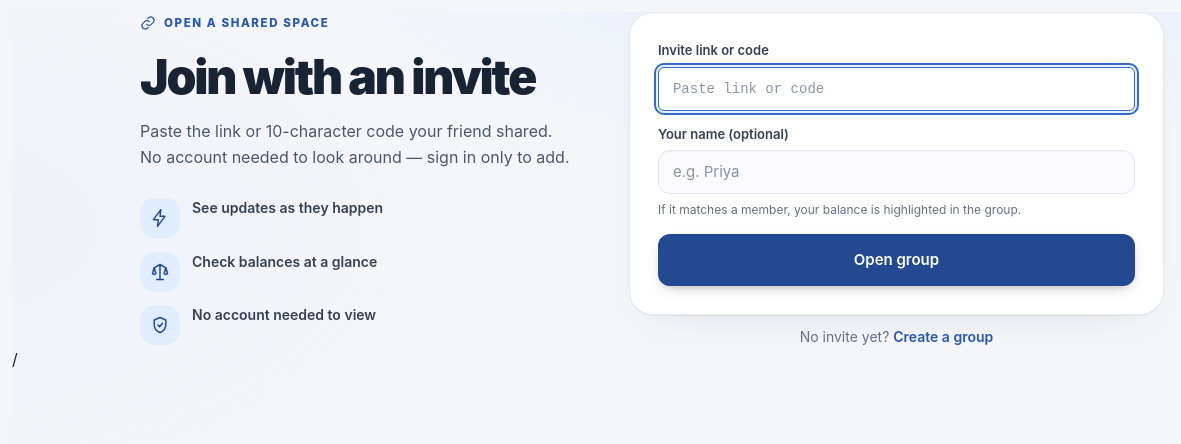
Test: JoinGroup › rejects malformed codes and remembers the display name
Type "abc" into the field labelled "Invite link or code".
click(896, 88); type("abc")  # box [658,66,1135,110]
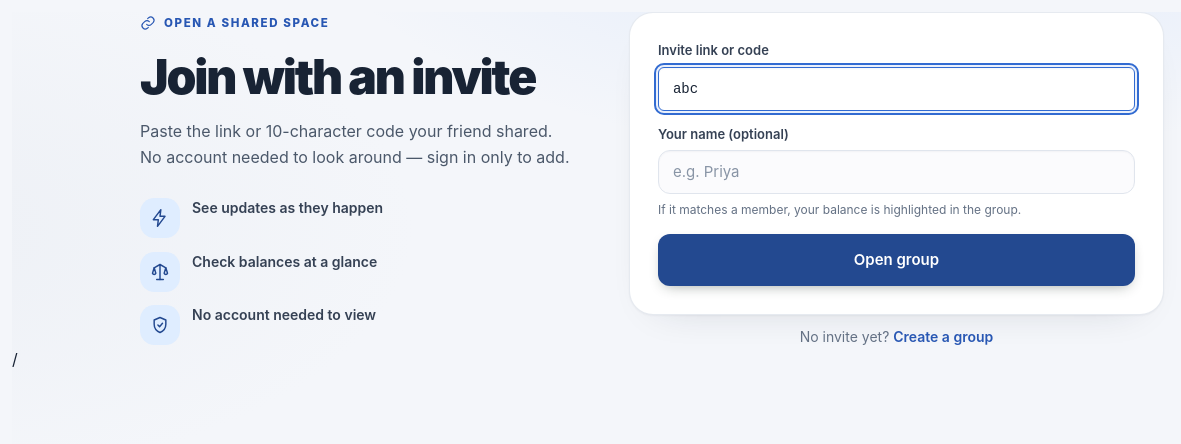
Type "Priya" into the field with placeholder "e.g. Priya".
click(896, 172); type("Priya")  # box [658,150,1135,194]
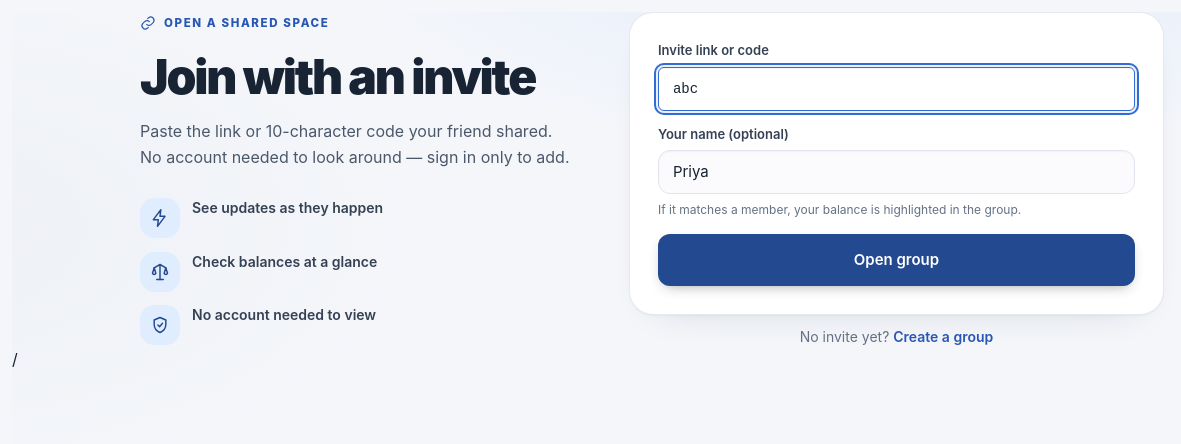
Click the button "Open group".
click(896, 260)  # box [658,234,1135,286]
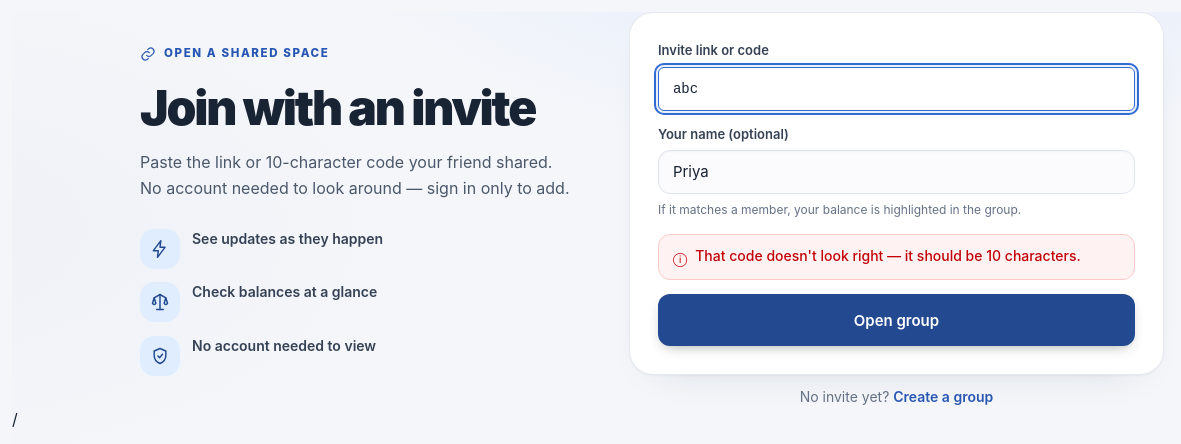
Expected: the message shows "10 characters", [695,246,1081,264]
